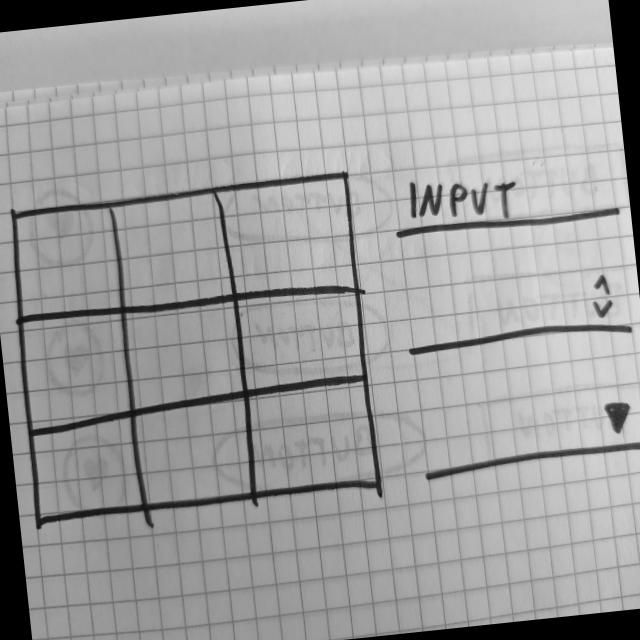input: (387, 157, 624, 245)
number-input: (400, 265, 637, 363)
select: (417, 392, 640, 488)
table: (1, 165, 387, 535)
